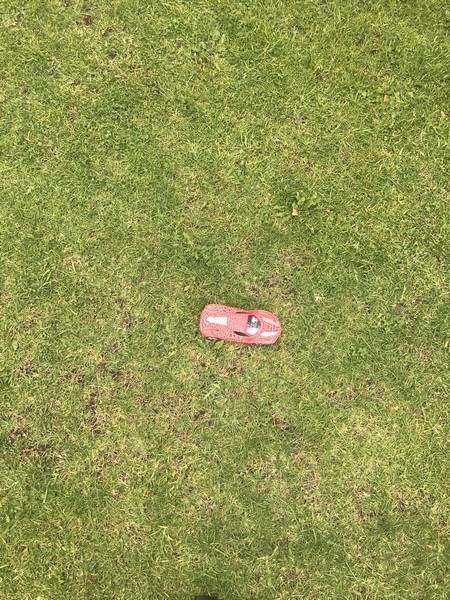RC: (198, 301, 283, 351)
